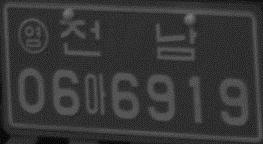0: (16, 66, 46, 115)
1: (181, 75, 214, 125)
6: (50, 68, 80, 117), (110, 71, 140, 120)
9: (218, 77, 251, 127), (145, 73, 177, 123)
아: (83, 72, 108, 116)
영: (16, 17, 49, 54)
전남_D: (59, 18, 199, 64)
